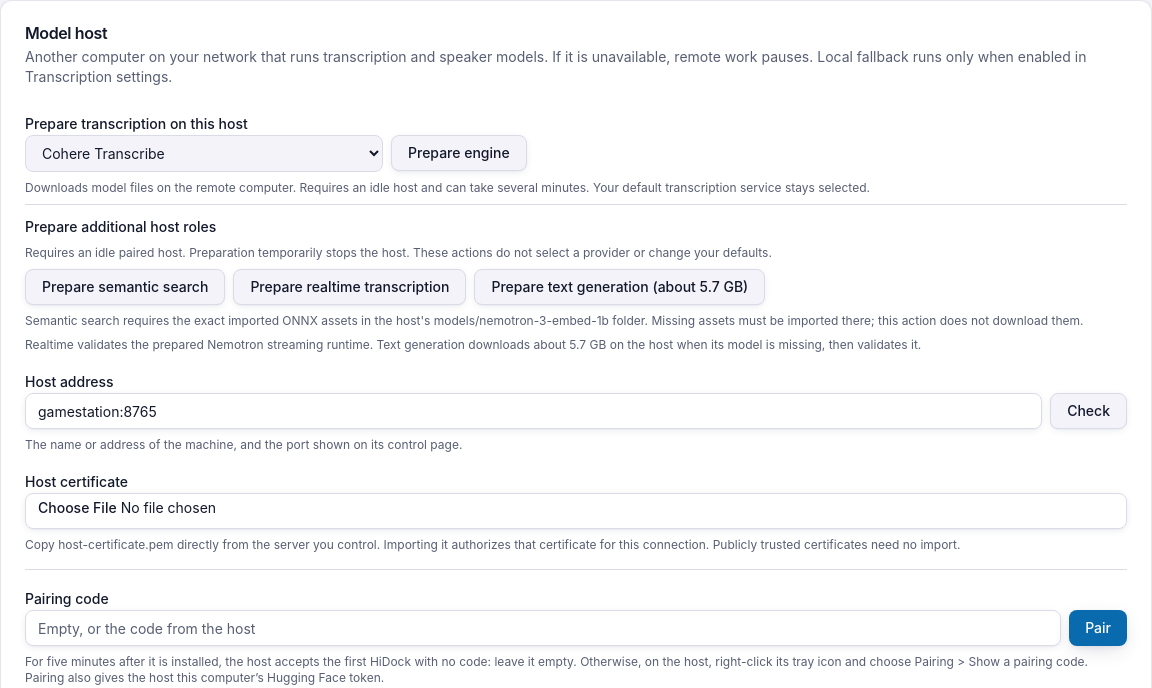
Scenario: ModelHostSettings › requires an explicit role click, discloses costs and waits for a readiness check
Expected: the text "models/nemotron-3-embed-1b" is shown, [25,313,1084,328]
Click the button "Prepare text generation (about 5.7 GB)" at {"x": 620, "y": 287}, box [474,269,765,305]
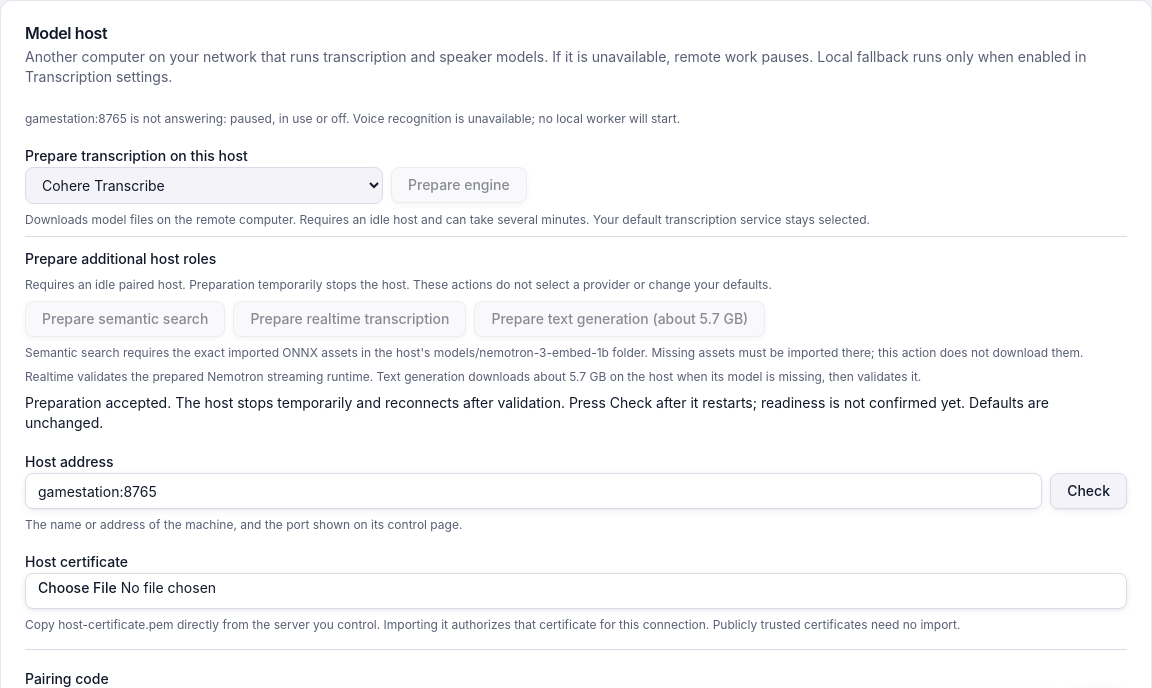
Expected: the text "Preparation accepted" is shown, [25,394,1049,431]
Expected: the button "Prepare semantic search" is disabled, [25,301,225,337]
Click the button "Check" at {"x": 1089, "y": 491}, box [1050,473,1127,509]
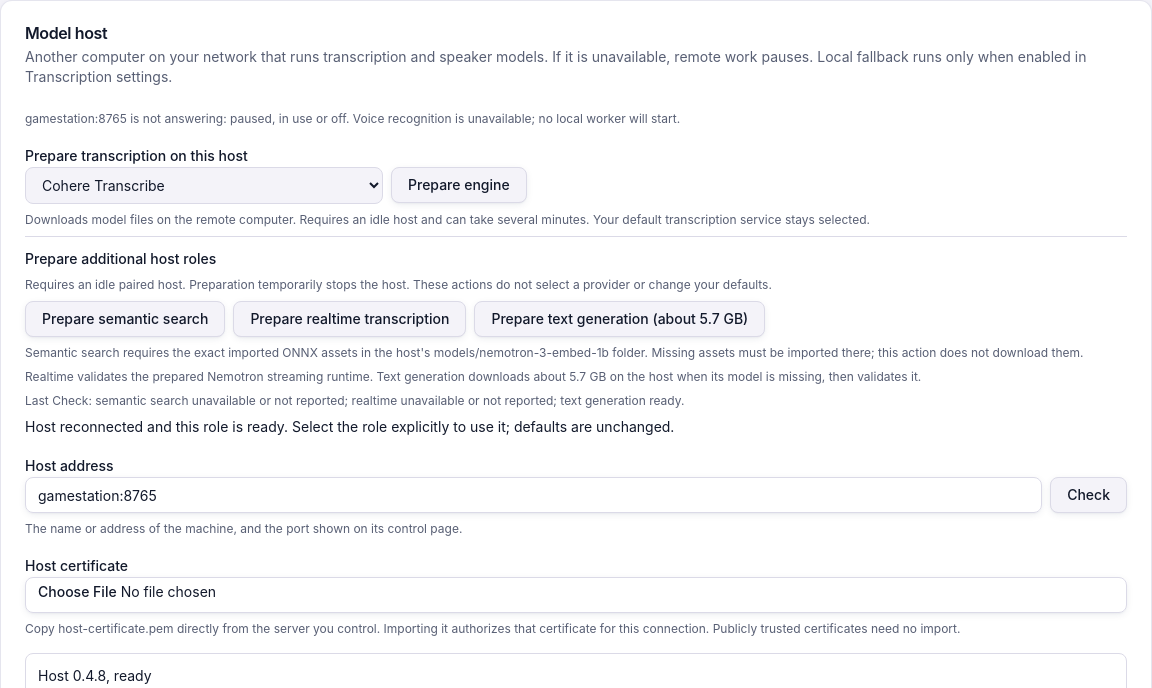
Expected: the text "Host reconnected and this role is ready" is shown, [25,418,674,435]
Expected: the button "Prepare semantic search" is enabled, [25,301,225,337]
